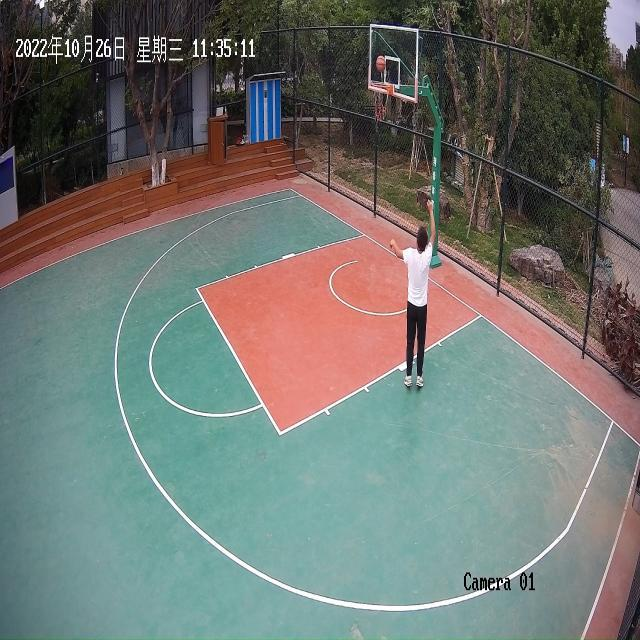basketball: (376, 54, 386, 72)
